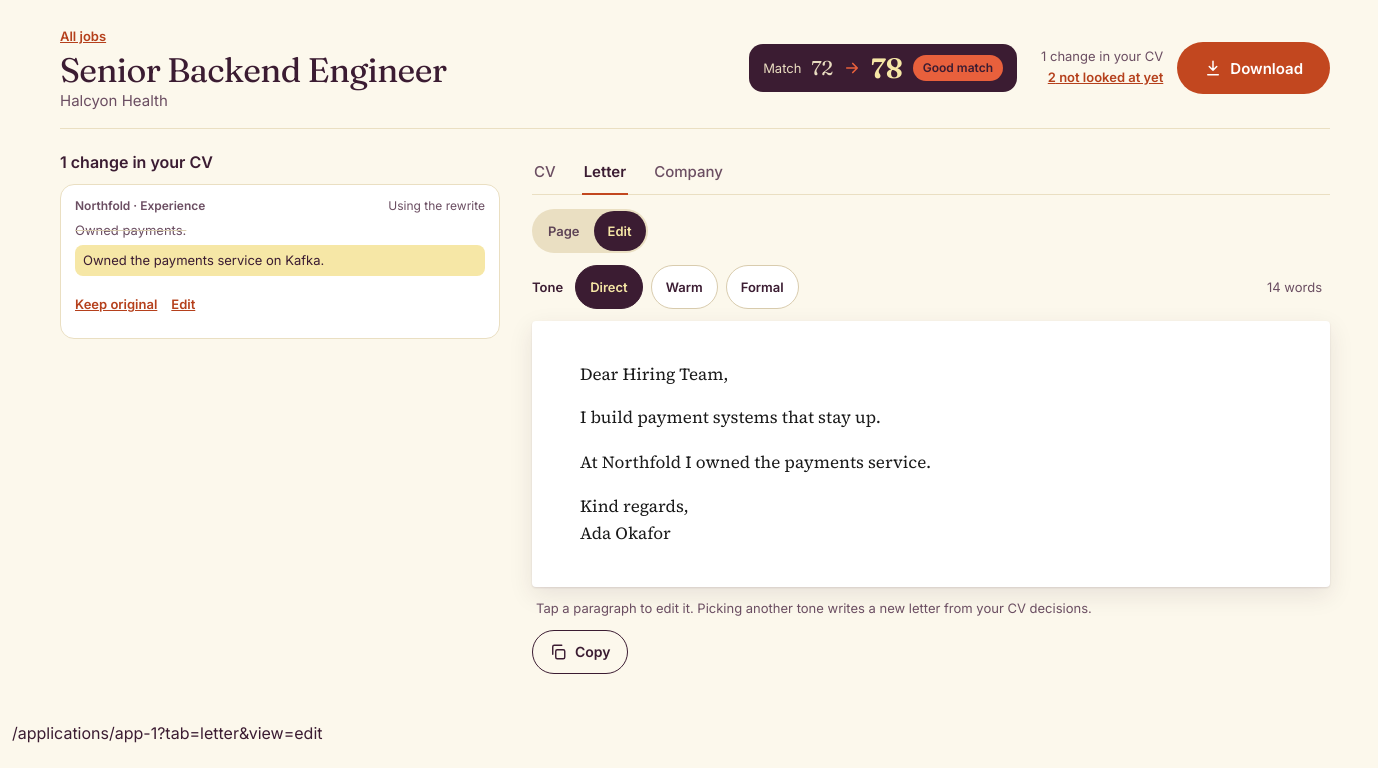
Scenario: Letter tab › saves an edited paragraph with the others untouched
Click the button "I build payment systems that stay up.". click: (931, 418)
box: [574,402,1288,433]
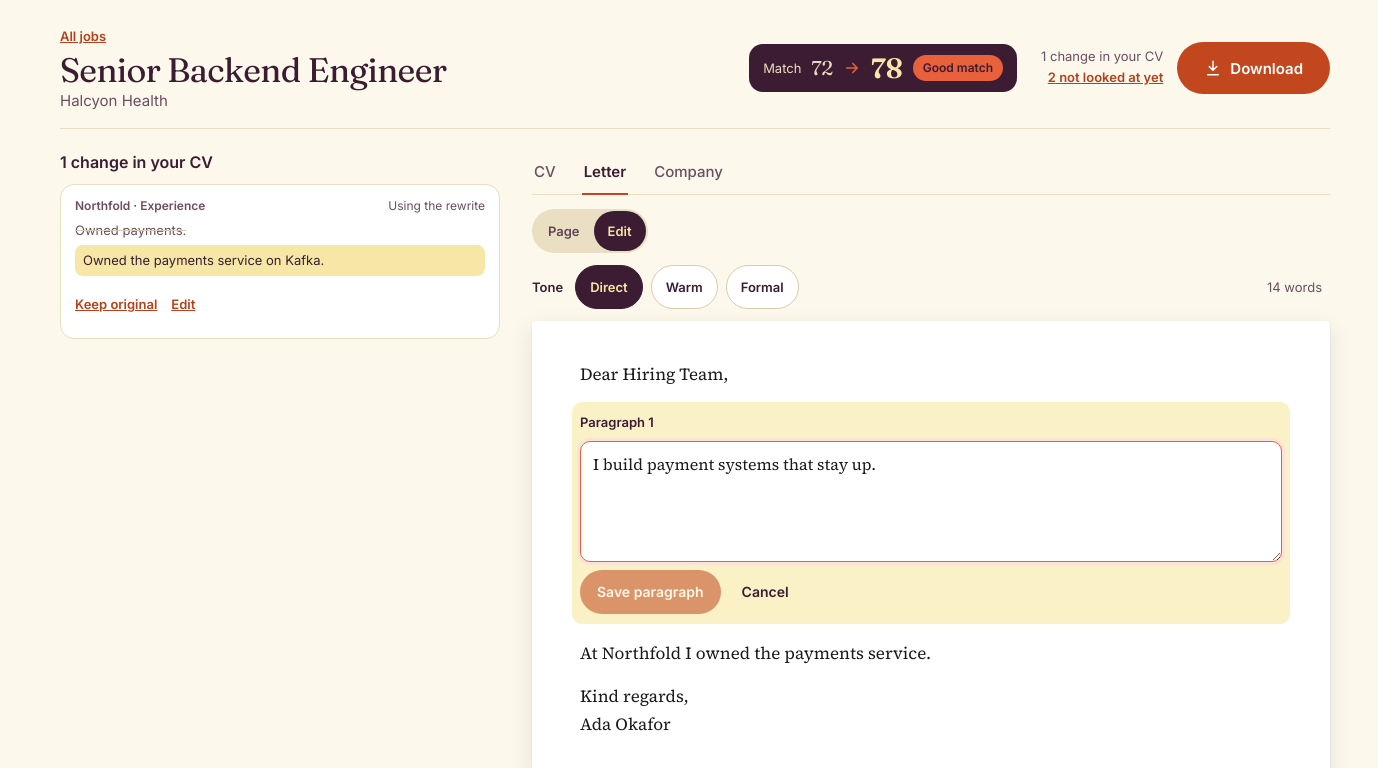
Replace the text in the text box labelled "Paragraph 1" with "I keep payment systems up.". click: (931, 502)
box: [580,441,1282,562]
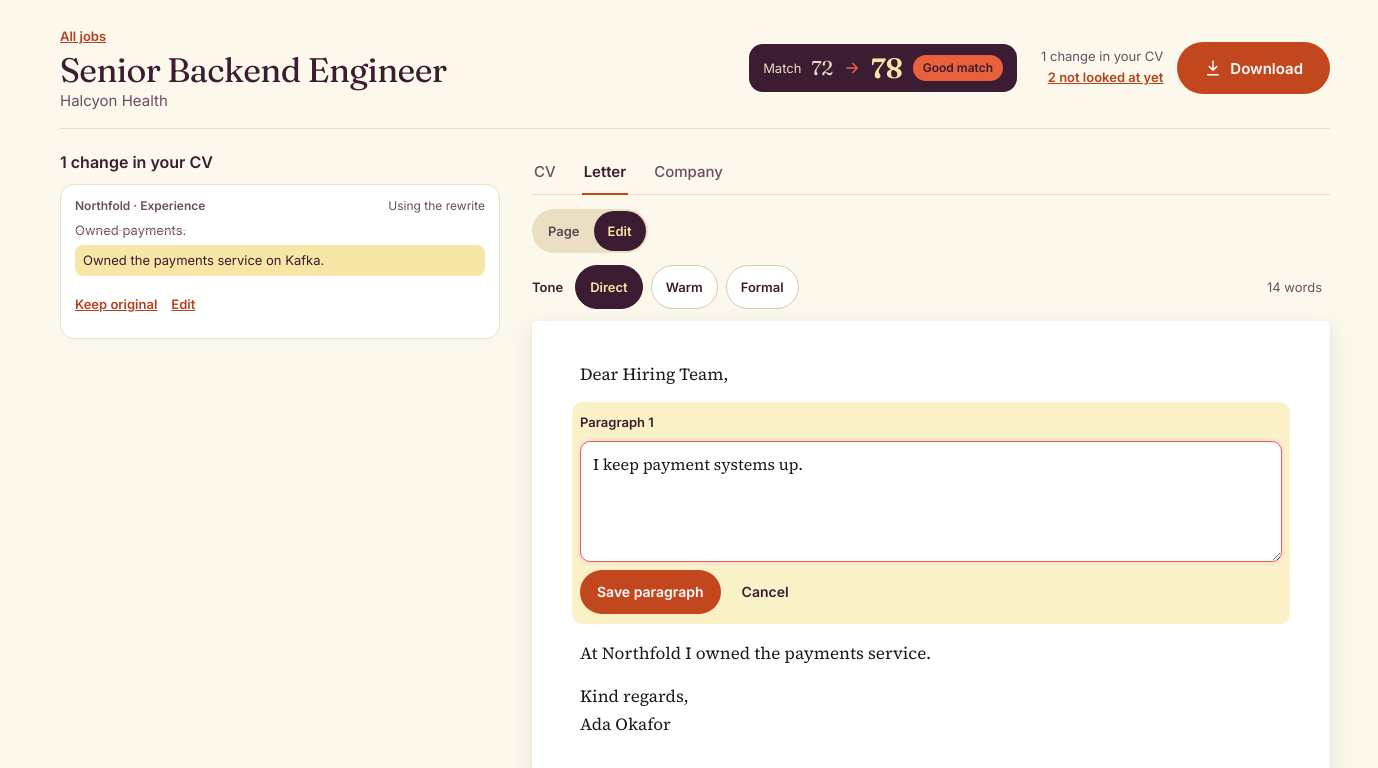
Click the button "Save paragraph". click: (650, 592)
box: [580,570,721,614]
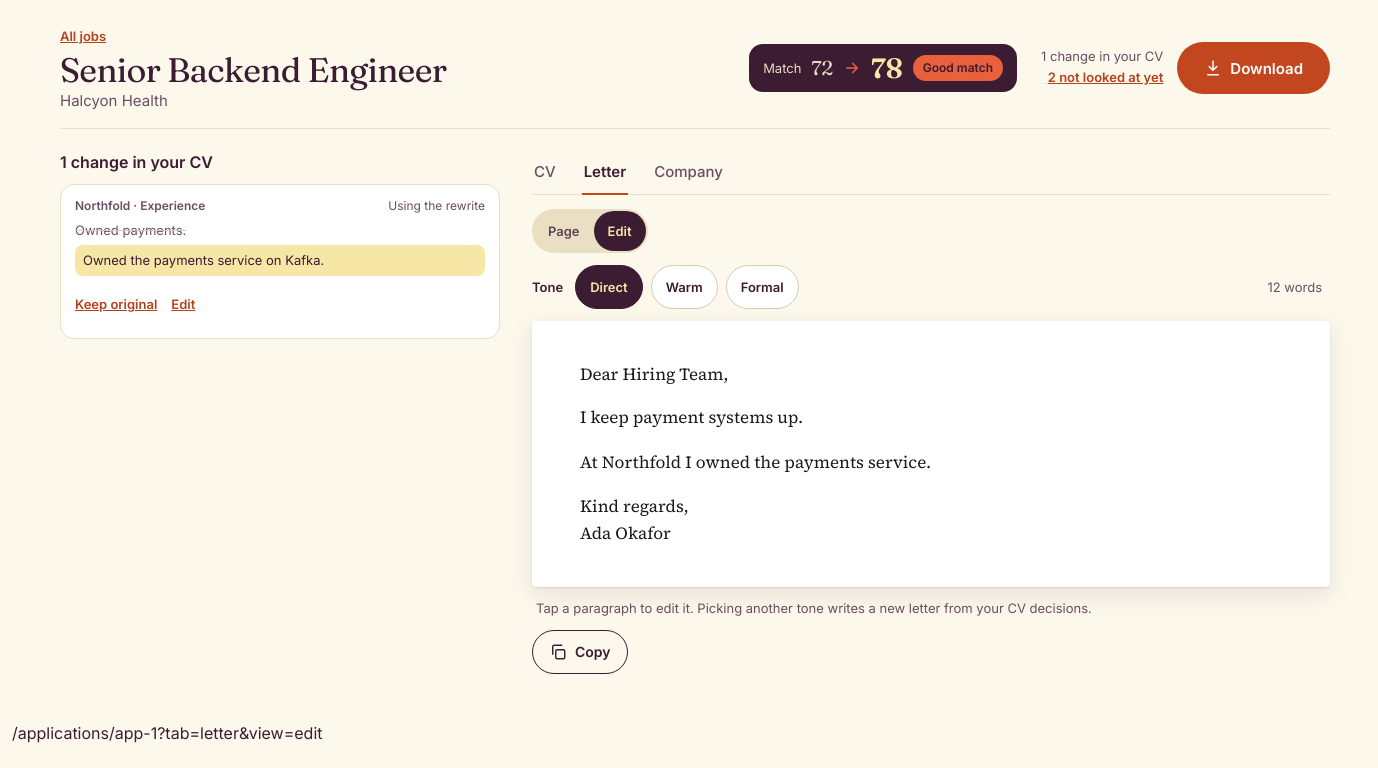
expect the button "I keep payment systems up." is shown: met, box [574,402,1288,433]
